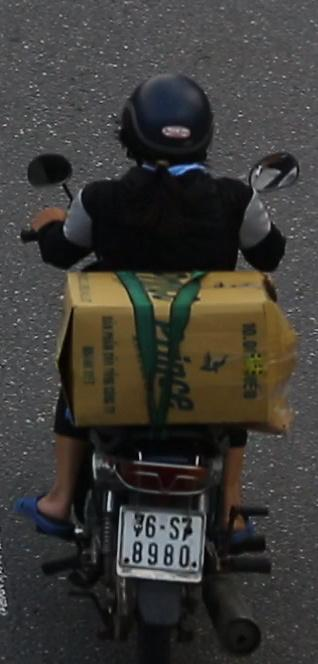LP: (114, 505, 208, 590)
helmet: (113, 71, 221, 182)
